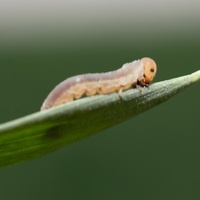insect: (40, 57, 156, 110)
